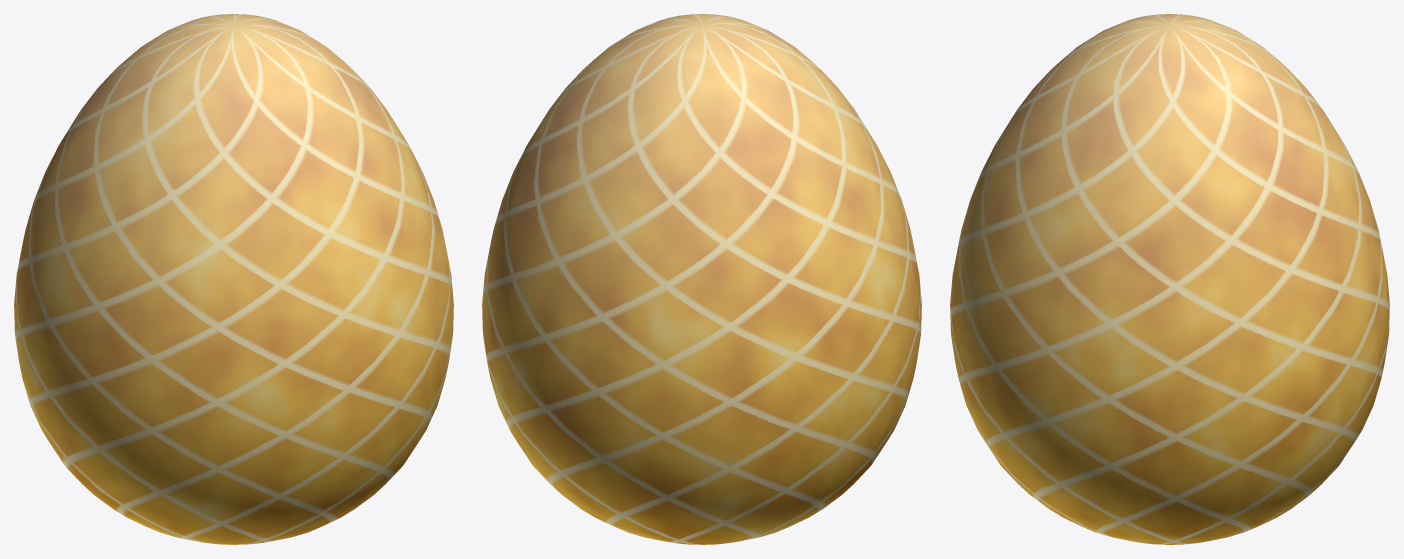
Rendered from Golden Egg.fbx.
3 renders of one model, left to right at view 1: azimuth 30°, elevation 25°; view 2: azimuth 150°, elevation 25°; view 3: azimuth 270°, elevation 25°, orthographic.
Parts seen in each view (by area): view 1: Golden Egg; view 2: Golden Egg; view 3: Golden Egg.
Boxes of the visible parts, x1,y1,x2,y2 form: Golden Egg: (14, 14, 453, 544); Golden Egg: (482, 14, 921, 544); Golden Egg: (950, 14, 1389, 544).
Bounding box in the file's own units: 4 × 5 × 4.
Materials: 1 (1 with a texture image).
